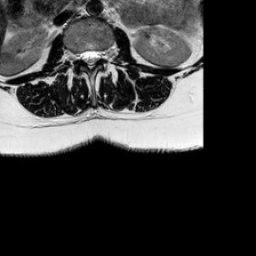CCS_normal: (86, 43, 94, 76)
LFS_normal: (101, 41, 108, 67)
LLS_normal: (94, 42, 101, 69)
RFS_normal: (72, 42, 79, 68)
RLS_normal: (79, 43, 86, 70)
